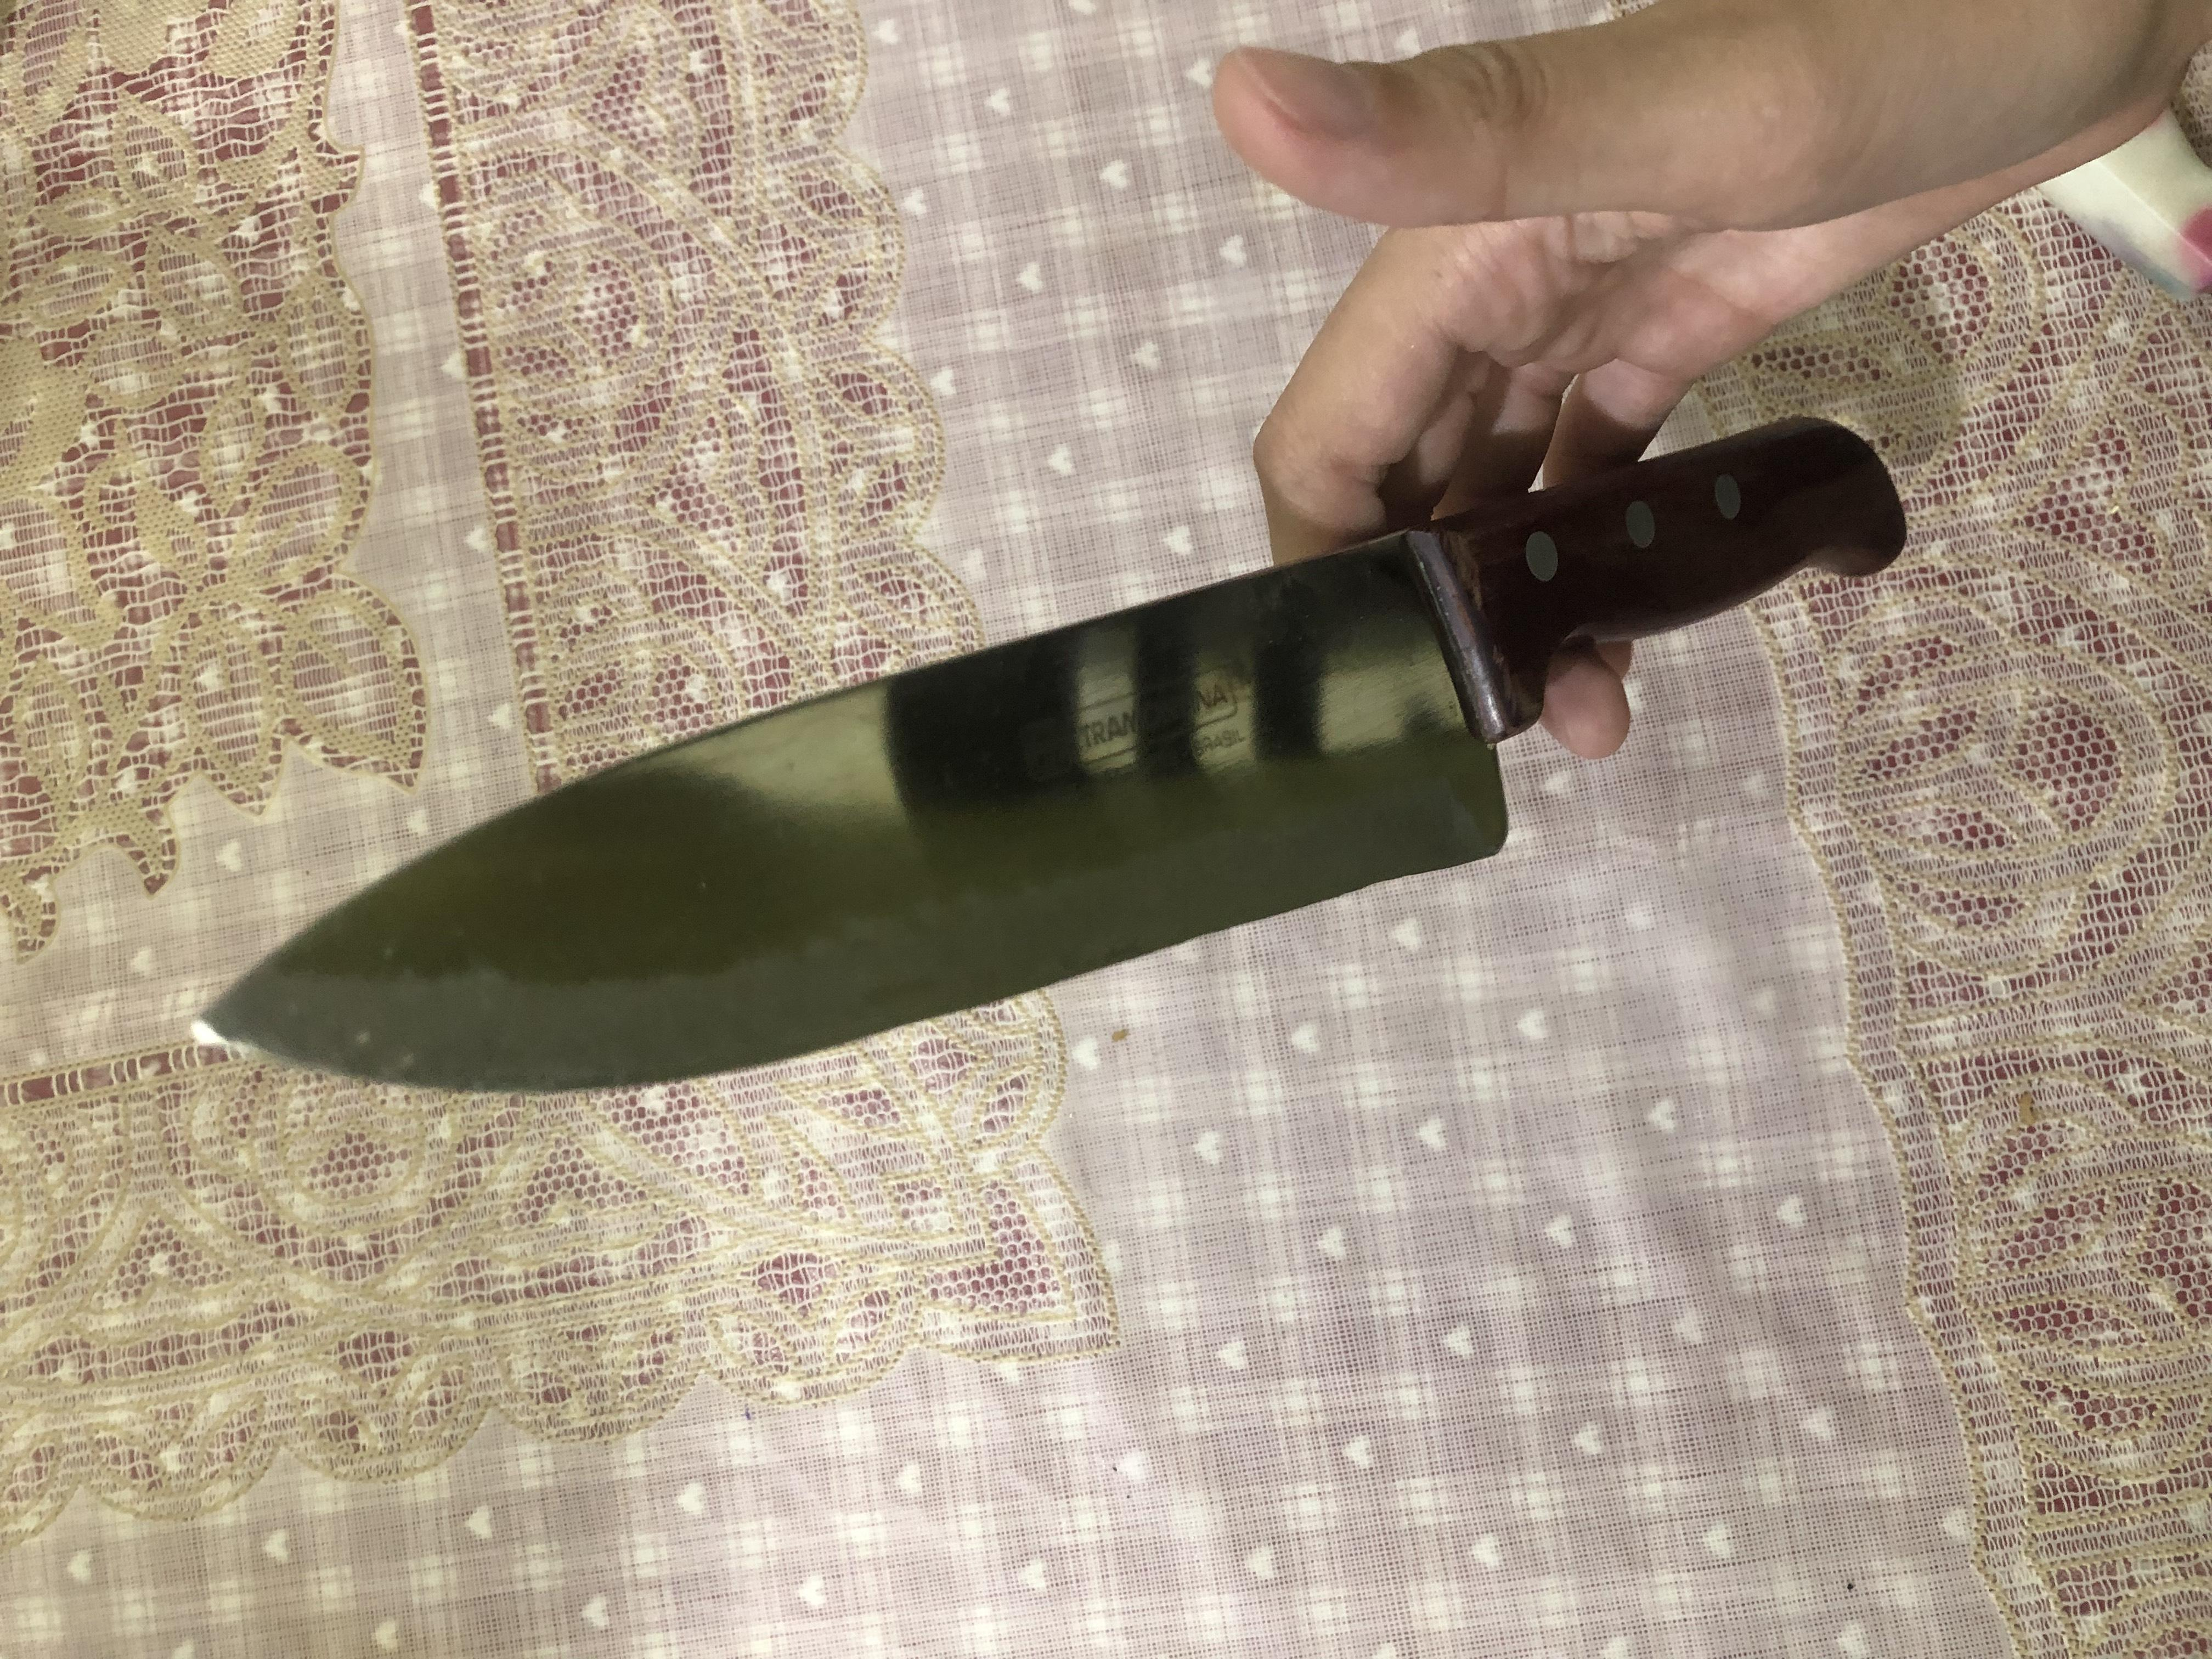weapon: (745, 148, 1655, 1431)
